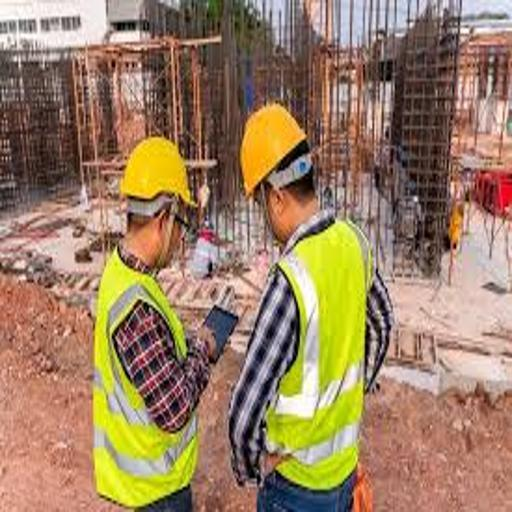Hard_hat: (108, 123, 228, 221), (230, 107, 321, 194)
Humans: (235, 206, 412, 512), (70, 225, 232, 512)
Vest: (77, 235, 213, 505), (255, 236, 394, 487)
